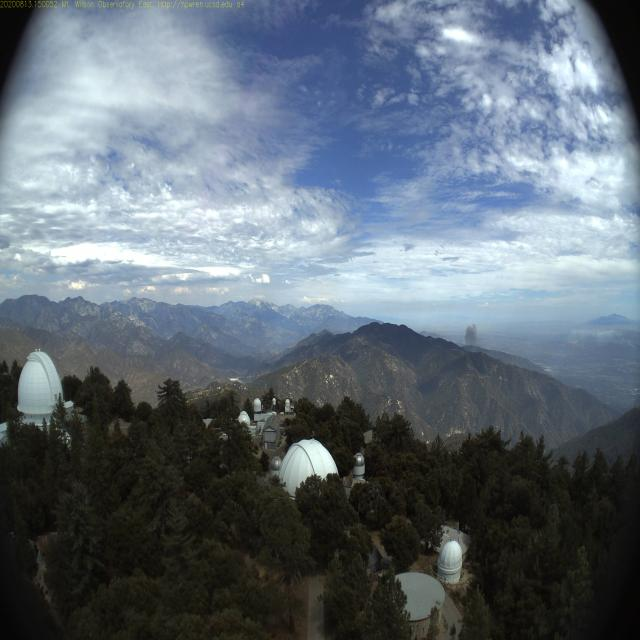smoke: (461, 319, 480, 353)
